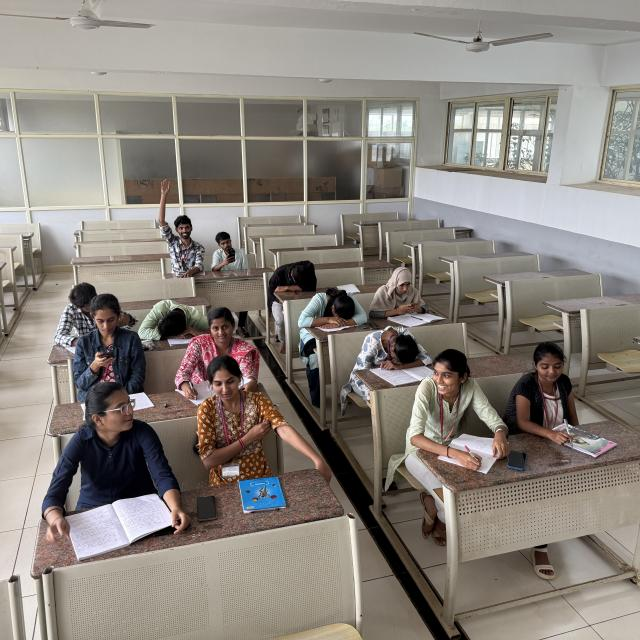Hand Rising: (154, 176, 206, 265)
Sleeping: (360, 326, 432, 372), (143, 300, 210, 347), (299, 288, 362, 334), (268, 256, 320, 297)
Using Phone: (74, 294, 138, 384), (370, 266, 432, 316), (208, 230, 248, 272)
Writing: (419, 352, 501, 474), (170, 298, 258, 406), (512, 336, 587, 448)
